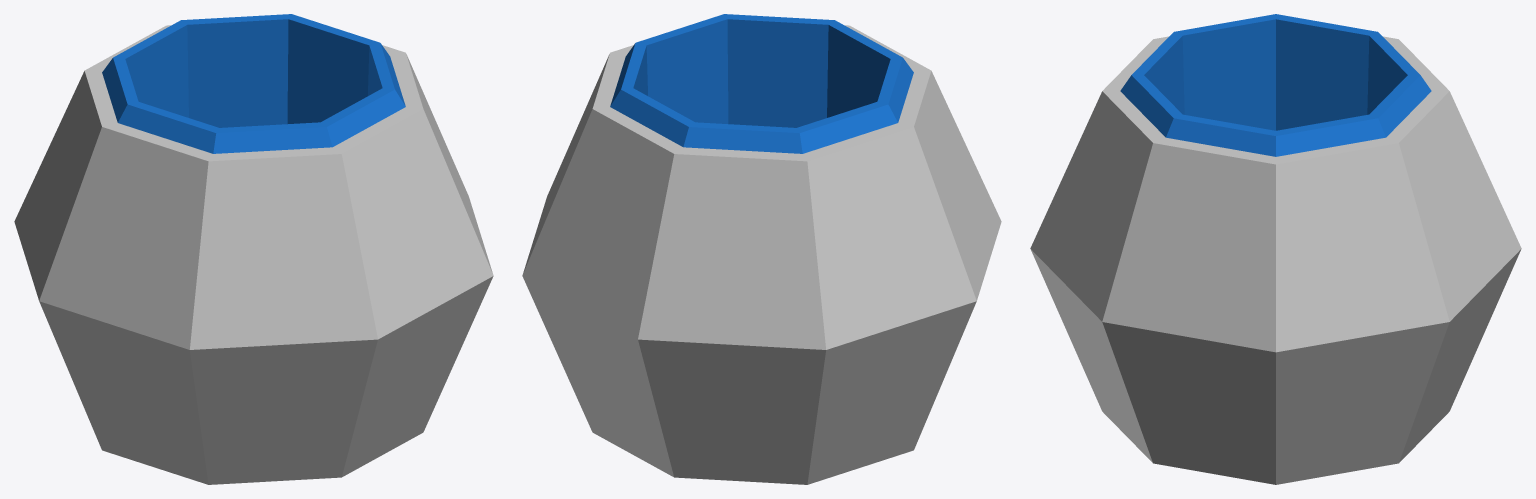
The model's file is space_flower_pot_14.fbx.
3 renders of one model, left to right at view 1: azimuth 30°, elevation 25°; view 2: azimuth 150°, elevation 25°; view 3: azimuth 270°, elevation 25°, orthographic.
Parts seen in each view (by area): view 1: Sphere; view 2: Sphere; view 3: Sphere.
Boxes of the visible parts, x1,y1,x2,y2 form: Sphere: [14, 14, 493, 484]; Sphere: [522, 14, 1001, 484]; Sphere: [1030, 14, 1521, 484].
Size of the model in its own units: 30.8 by 23.27 by 30.8.
